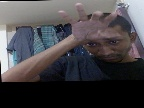hand: (58, 2, 125, 47)
